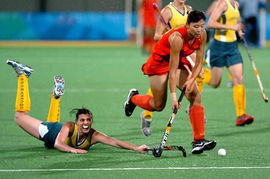fall: (7, 56, 153, 156)
